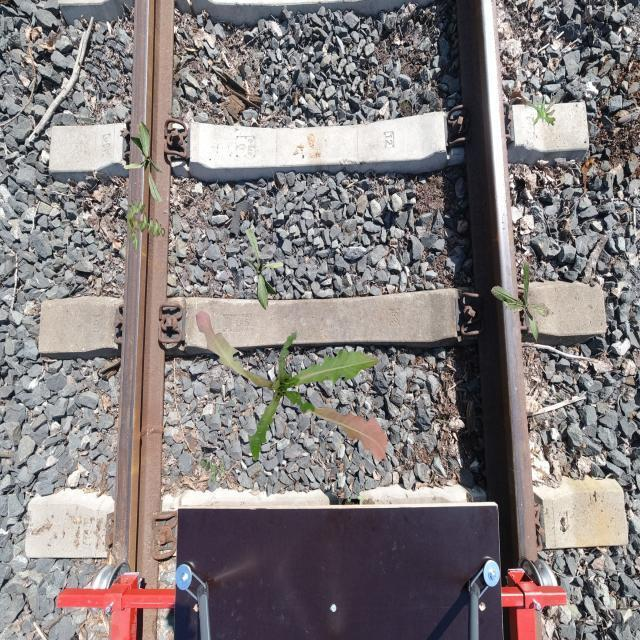Plant: (196, 310, 388, 462), (491, 261, 555, 345), (124, 121, 164, 204), (244, 228, 284, 310), (124, 199, 166, 253), (525, 92, 558, 126), (200, 454, 228, 484)
